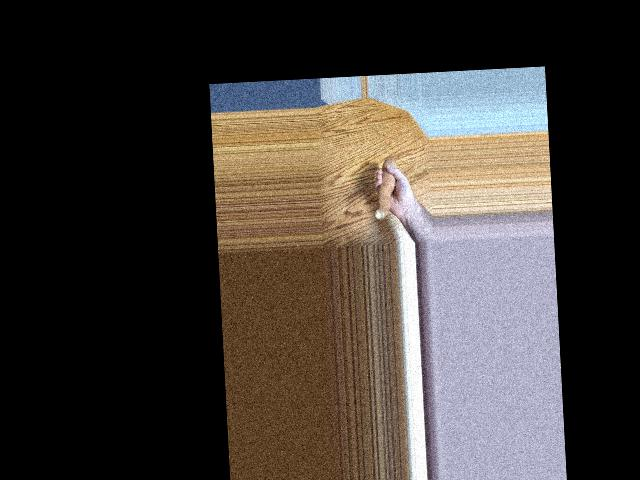sweet_potato: (374, 162, 402, 224)
